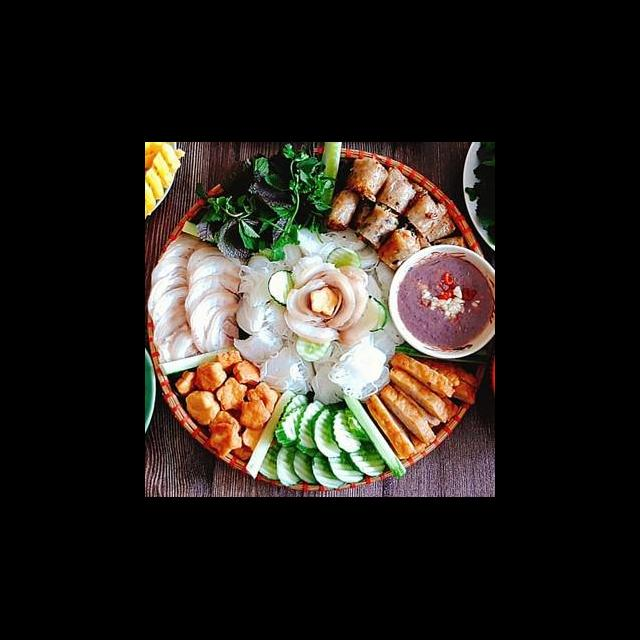bun: (234, 220, 411, 408)
bun dau: (164, 170, 485, 489)
cha com: (363, 346, 484, 466)
cha gio: (322, 148, 467, 270)
dau hu: (165, 351, 283, 464)
thit heo: (146, 225, 248, 364), (284, 256, 385, 348)
